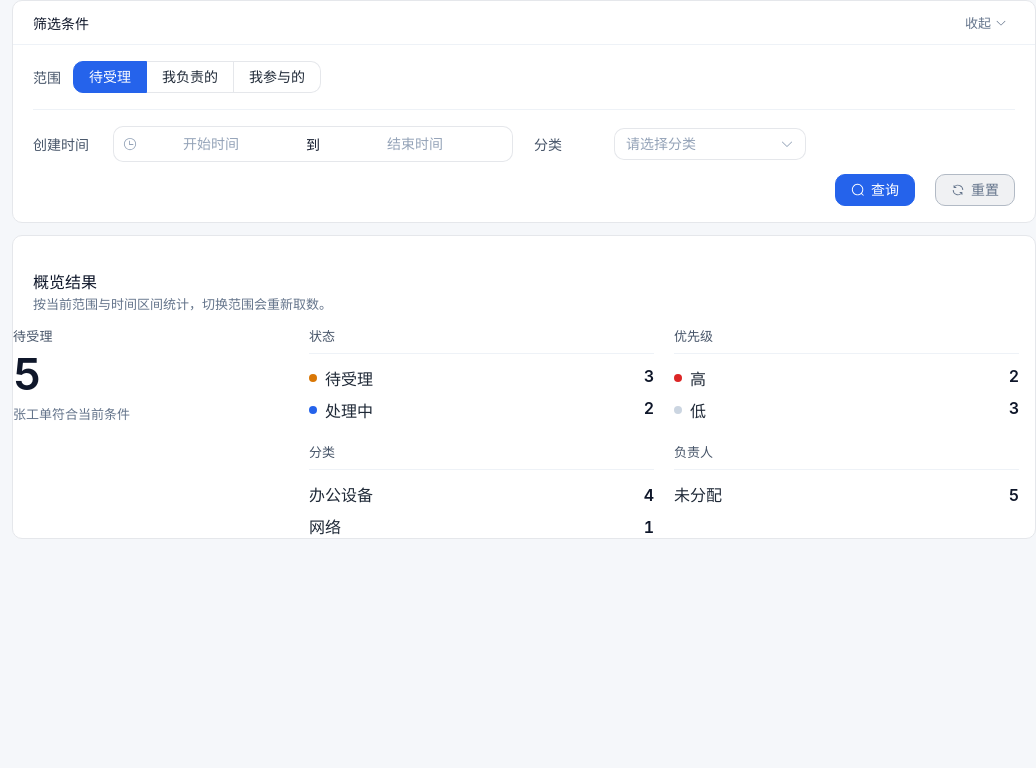
Test: TicketDashboardView › 分类选项来自未按分类过滤的响应，选中后保留选项不收缩
Click the button "查询".
click(875, 190)  # box x1=835 y1=174 x2=915 y2=206
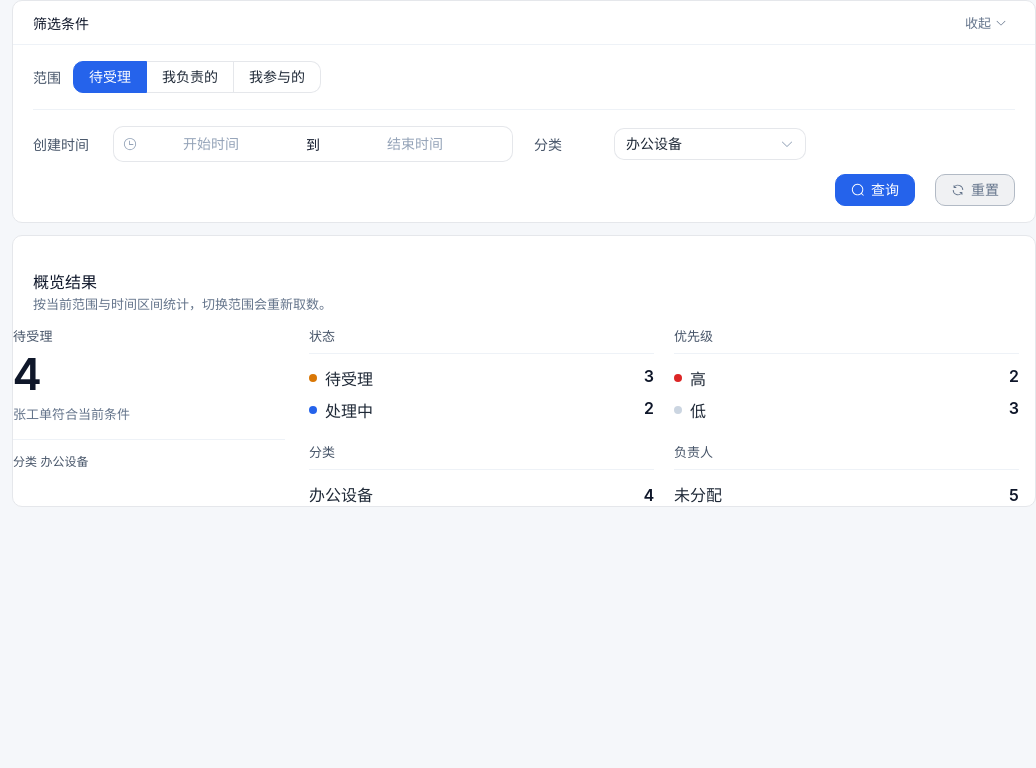
Expected: the text with class "dashboard-total__value" reads "4", x1=13 y1=347 x2=41 y2=401
